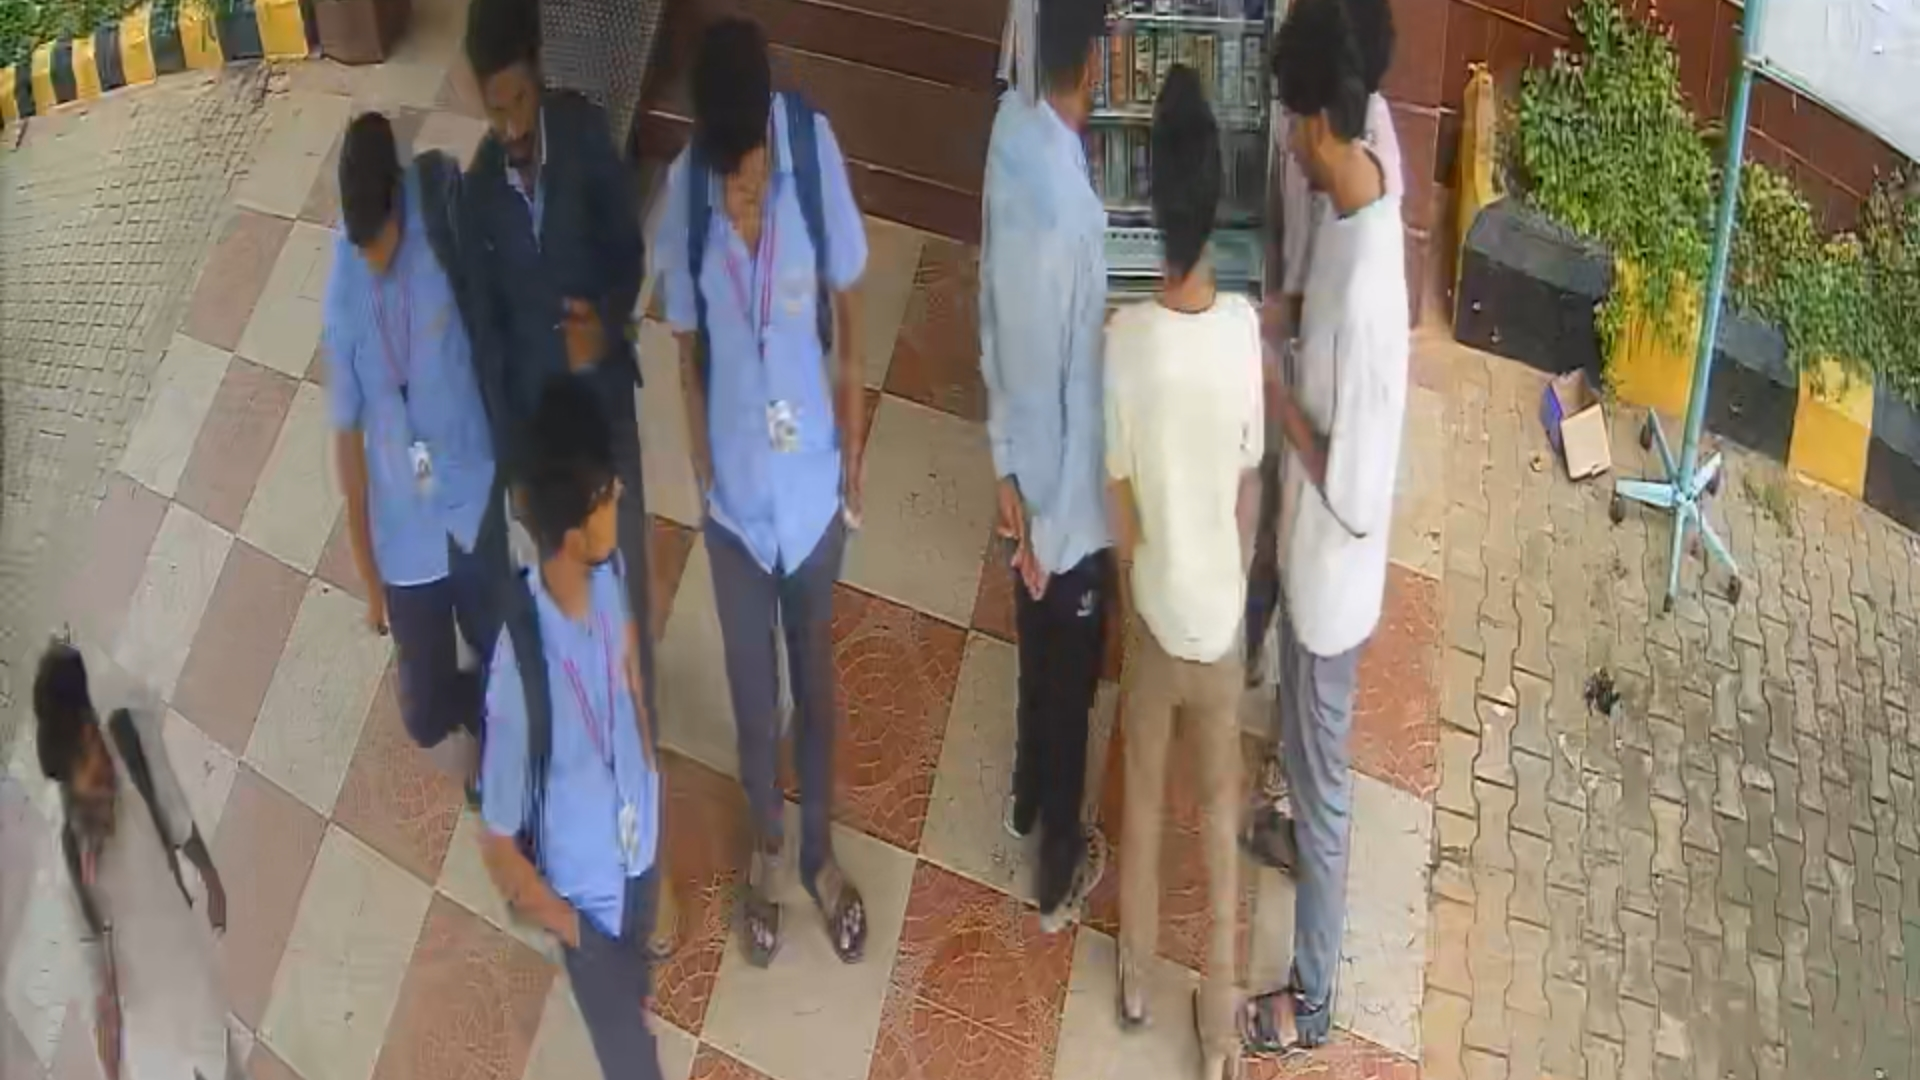intruder: (446, 1, 644, 444)
not intruder: (676, 22, 894, 960), (480, 369, 680, 1069), (328, 109, 533, 707)
